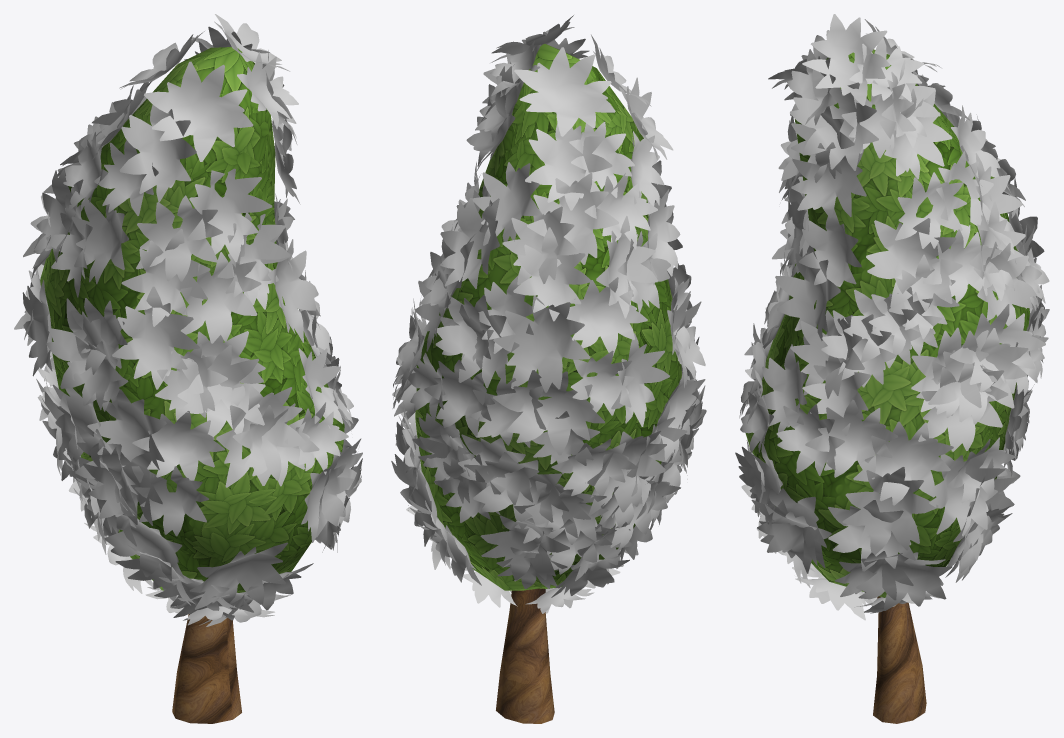
Rendered from tree_01.fbx.
3 views of the same model, side by side, from view 1: azimuth 30°, elevation 25°; view 2: azimuth 150°, elevation 25°; view 3: azimuth 270°, elevation 25° (orthographic). The views are drawn at different scales.
Visible parts, largest first — view 1: tree_01; view 2: tree_01; view 3: tree_01.
Part boxes in pixels (bbox=[...]): tree_01: bbox=[14, 14, 362, 723]; tree_01: bbox=[391, 15, 706, 723]; tree_01: bbox=[735, 14, 1049, 723].
Bounding box in the file's own units: 32.78 × 78.23 × 32.45.
